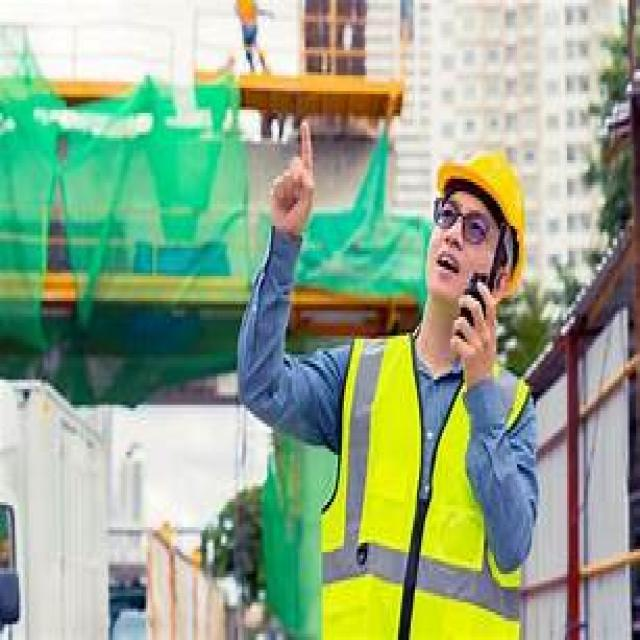not-gloved: (449, 273, 519, 385), (276, 108, 328, 237)
